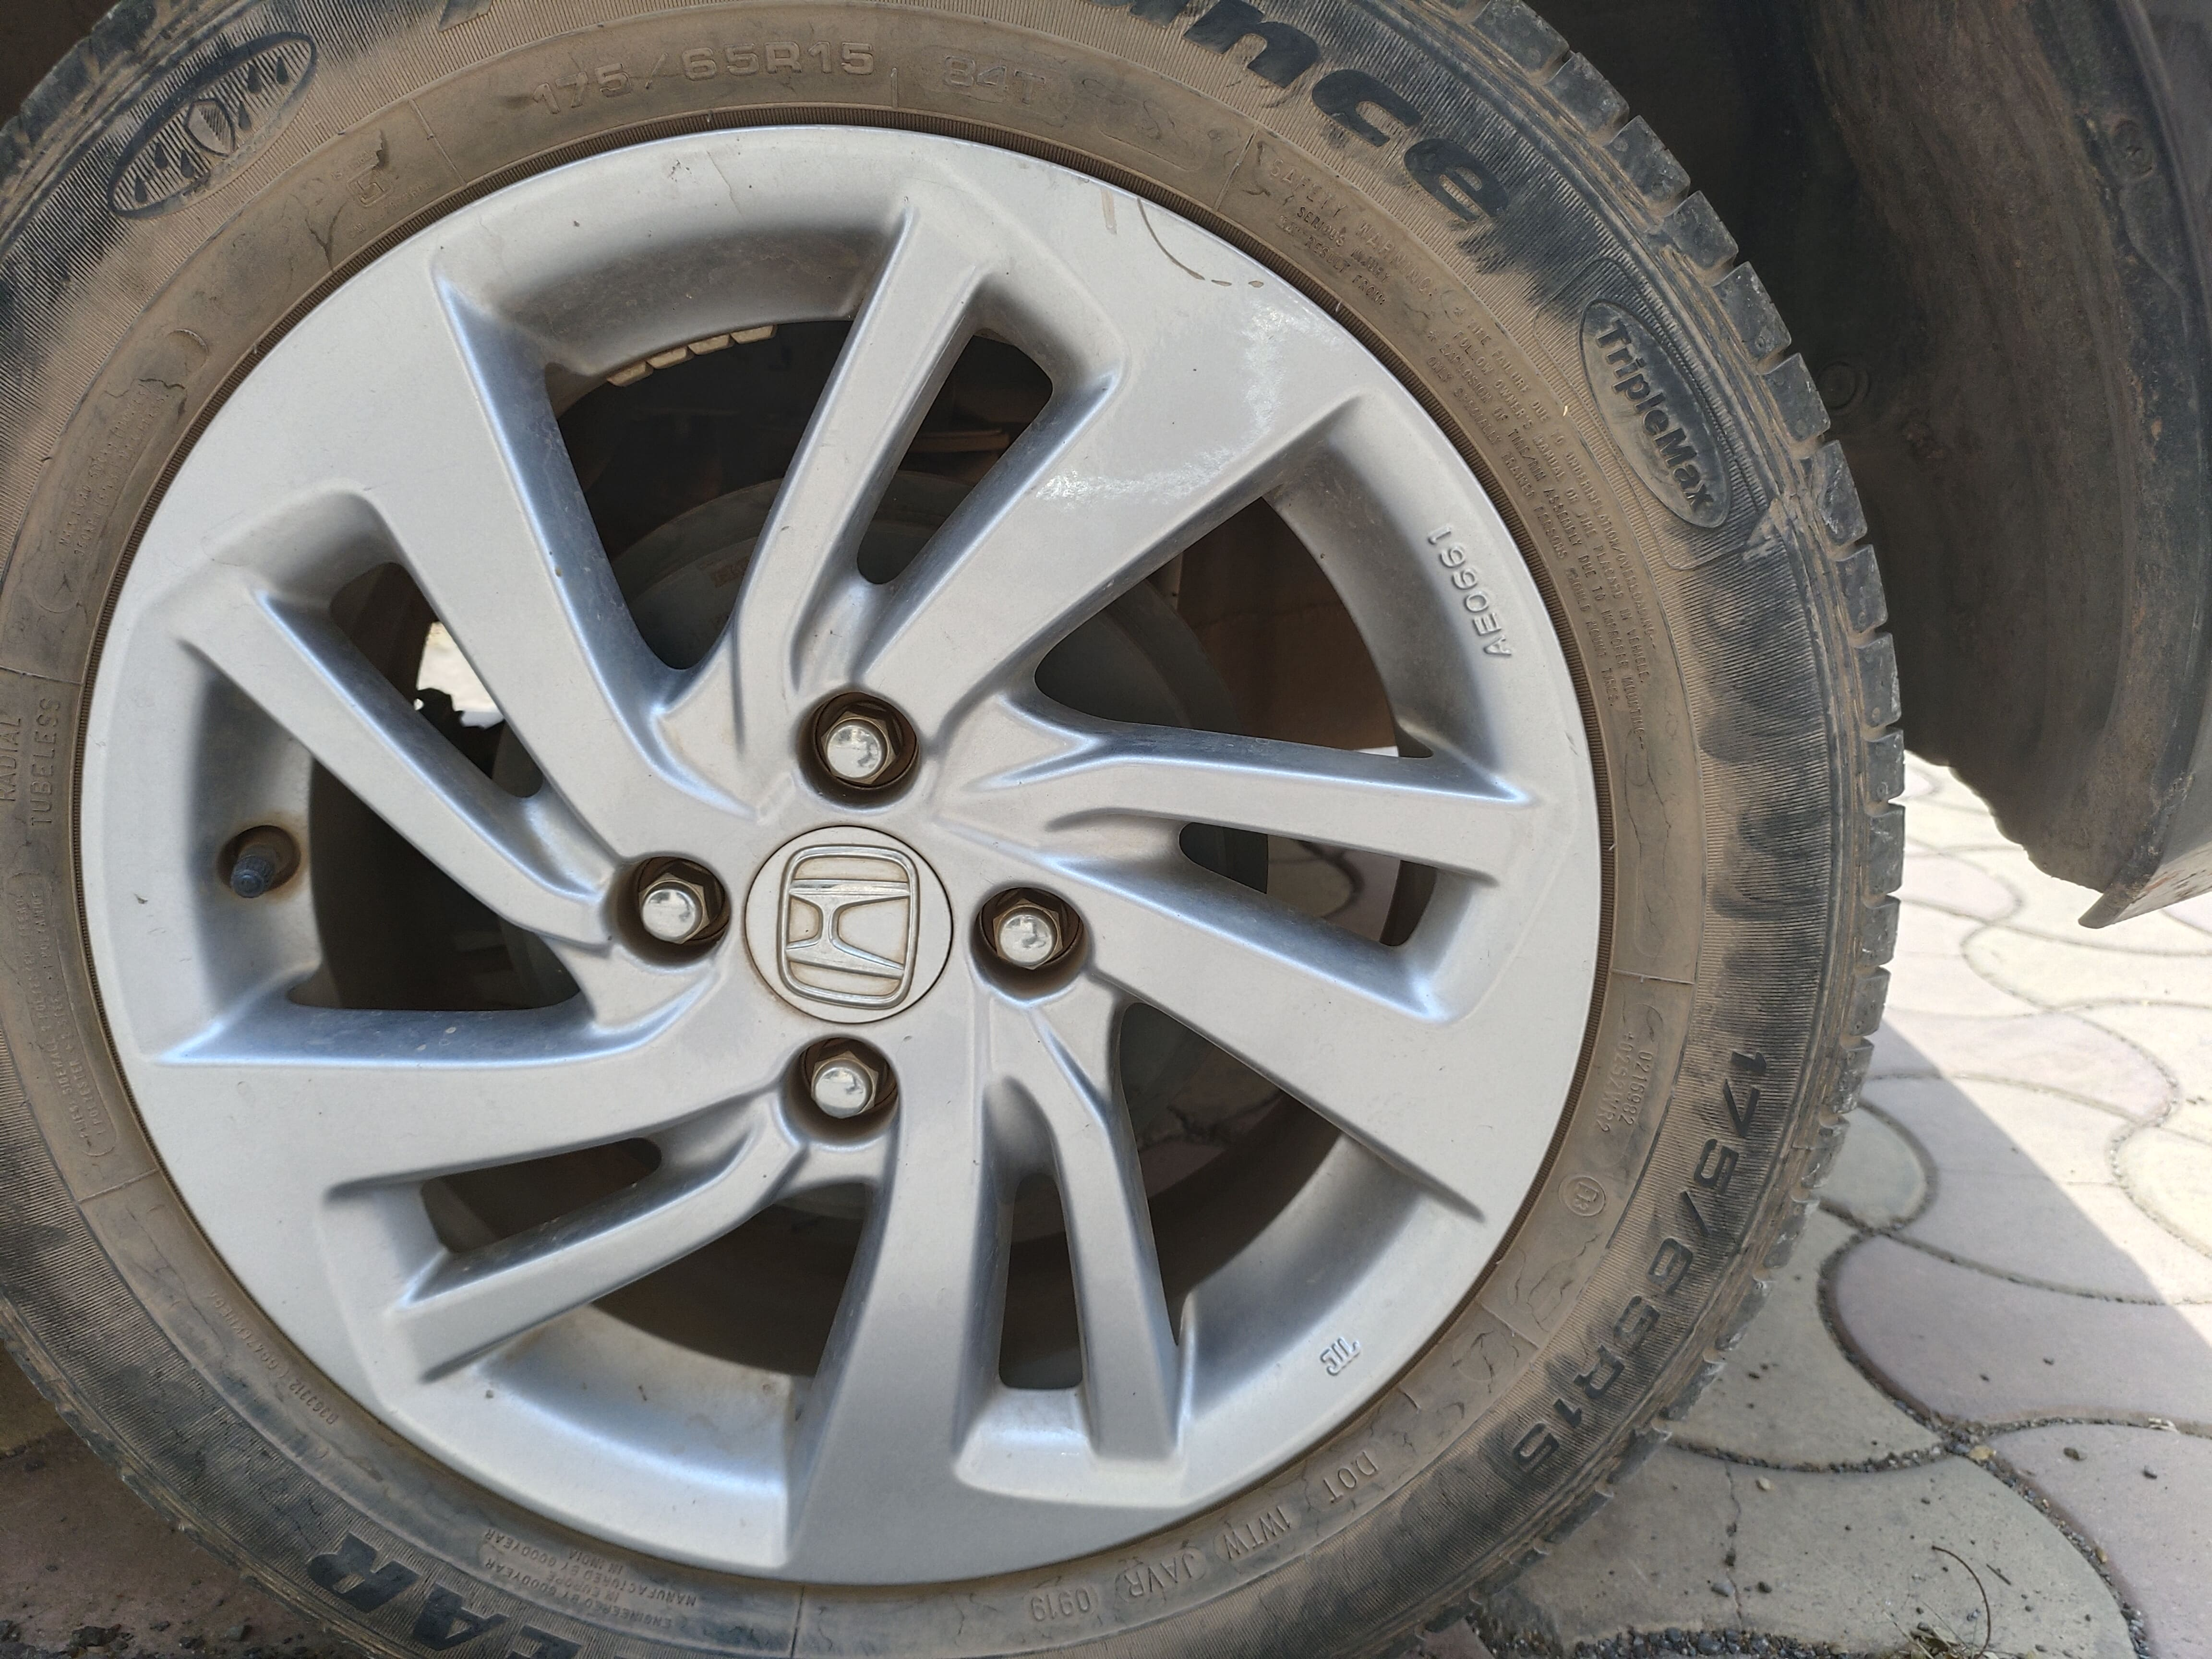l: (953, 856, 1096, 1009), (792, 669, 921, 828), (599, 828, 726, 988), (770, 1028, 909, 1152)
